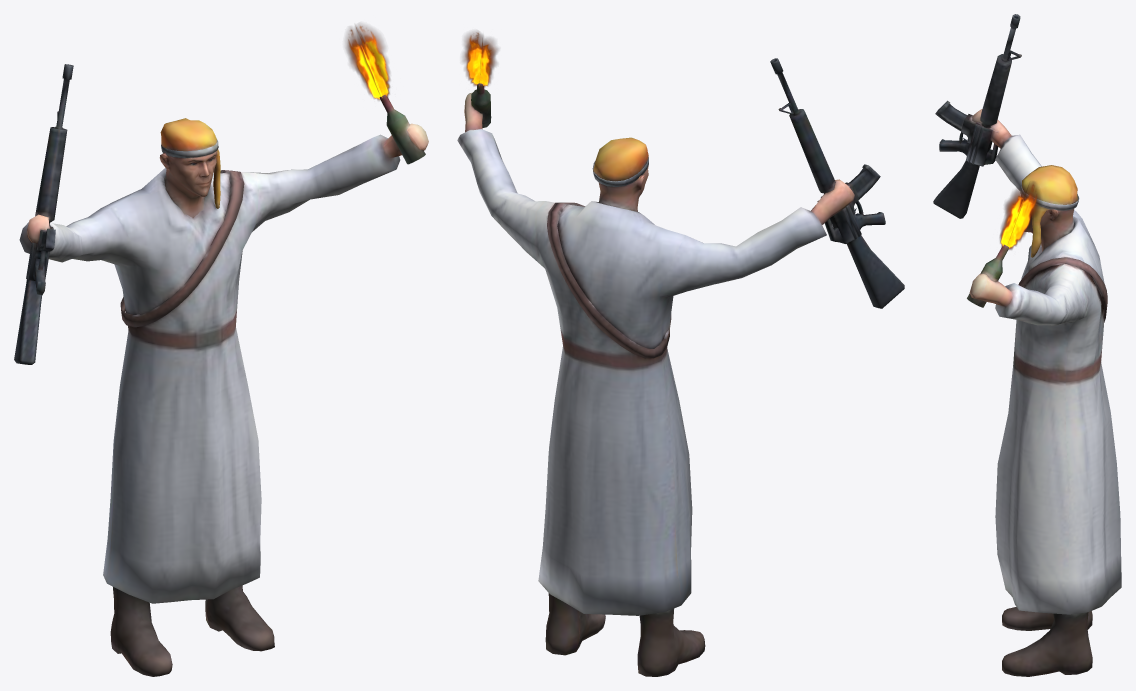
Rendered from Fanatics.glb.
The picture shows the model from 3 angles, left to right: view 1: azimuth 30°, elevation 25°; view 2: azimuth 150°, elevation 25°; view 3: azimuth 270°, elevation 25°; orthographic projection. The views are drawn at different scales.
Parts seen in each view (by area): view 1: low, 4.002; view 2: low, 4.002; view 3: low, 4.002.
Boxes of the visible parts, x1,y1,x2,y2 form: low: [14, 64, 428, 676]; 4.002: [345, 24, 390, 100]; low: [457, 58, 904, 676]; 4.002: [462, 31, 498, 87]; low: [933, 14, 1121, 676]; 4.002: [999, 181, 1040, 249].
Size of the model in its own units: 1.42 by 2 by 0.5981.
Materials: 2 (2 with a texture image).
